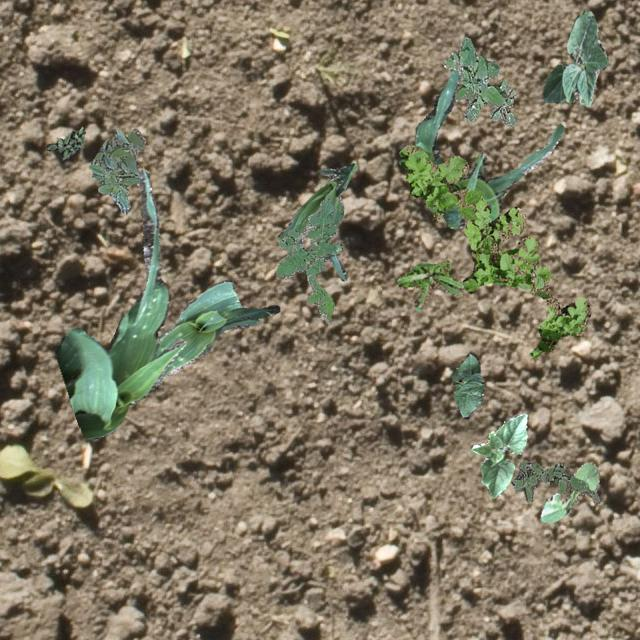crop: (54, 168, 185, 438), (413, 68, 562, 228), (154, 278, 278, 384), (276, 162, 356, 280), (540, 9, 608, 106), (471, 412, 526, 498), (540, 460, 598, 522), (451, 352, 484, 418)
weed: (398, 144, 590, 356), (274, 198, 342, 322), (442, 36, 516, 126), (88, 128, 144, 212), (511, 458, 598, 504), (396, 260, 464, 310), (46, 125, 84, 158)
